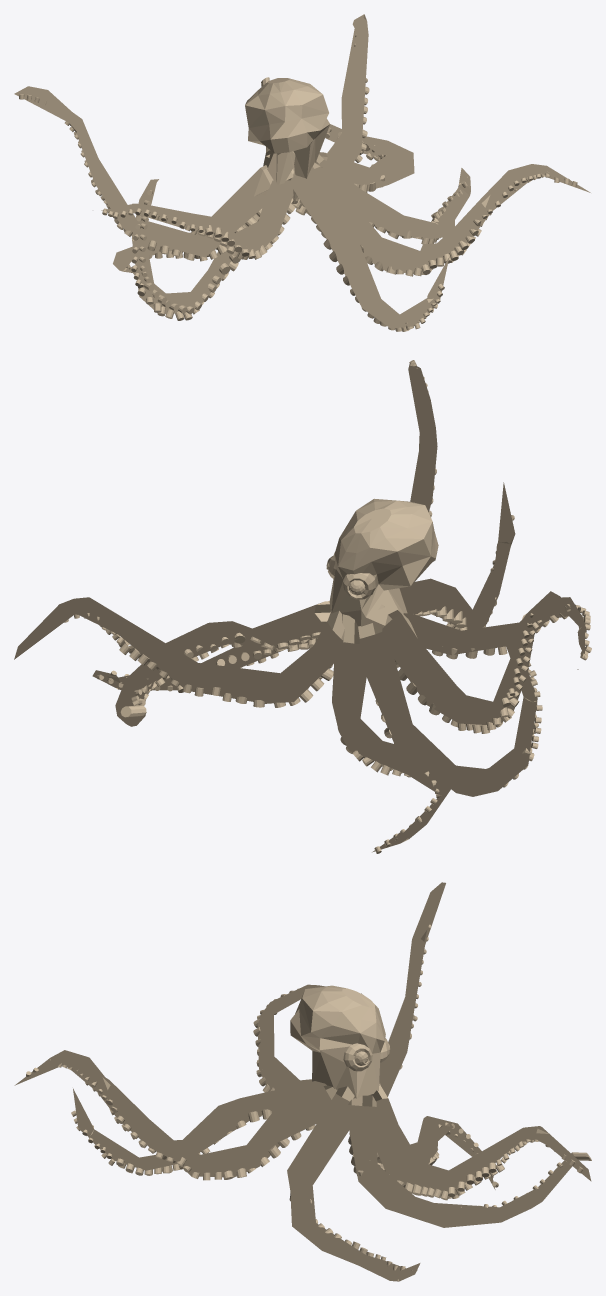
Rendered from chiru.glb.
3 renders of one model, top to bottom at view 1: azimuth 30°, elevation 25°; view 2: azimuth 150°, elevation 25°; view 3: azimuth 270°, elevation 25°, orthographic. The views are drawn at different scales.
Parts seen in each view (by area): view 1: Node; view 2: Node; view 3: Node.
Boxes of the visible parts, x1=… form: Node: x1=14, y1=14, x2=590, y2=331; Node: x1=14, y1=360, x2=591, y2=853; Node: x1=14, y1=882, x2=591, y2=1281.
Size of the model in its own units: 2.17 by 1.14 by 2.48.
